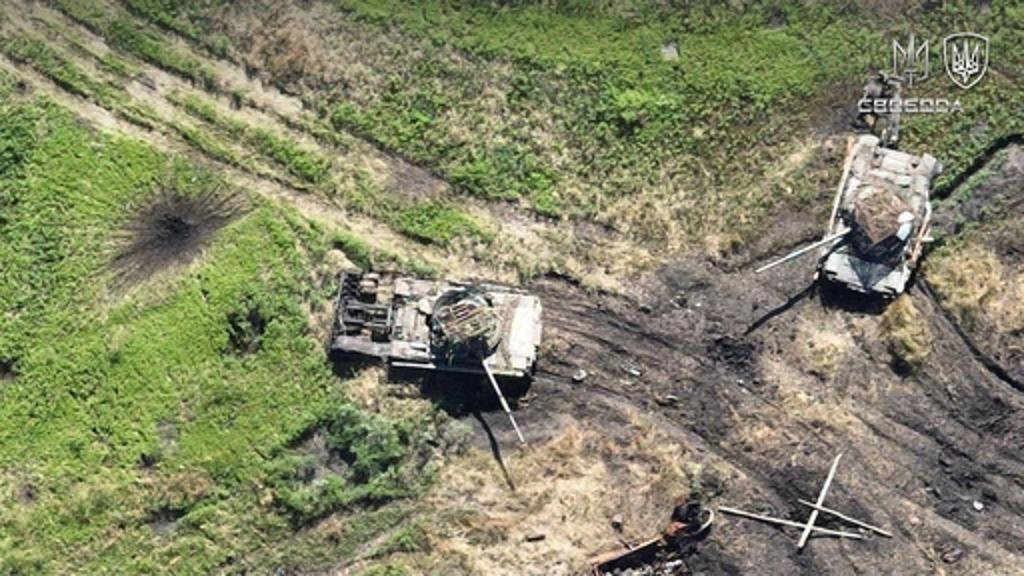TANK: (314, 256, 542, 452), (756, 128, 940, 306)
